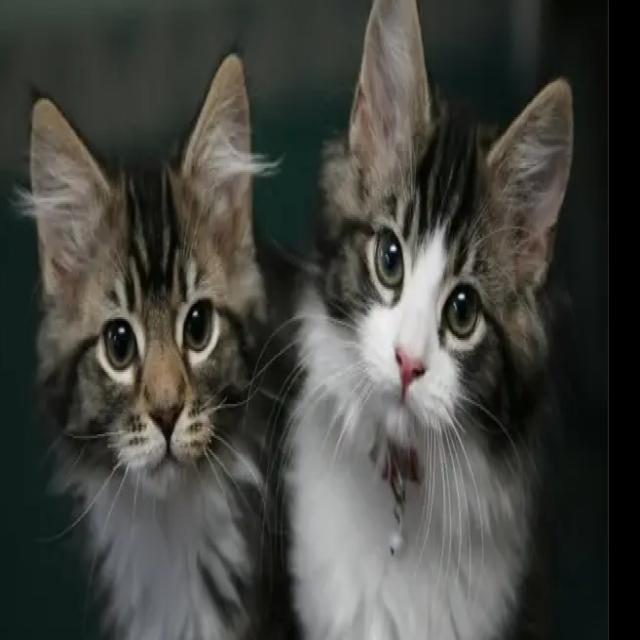cats: (299, 4, 572, 637), (18, 90, 280, 622)
